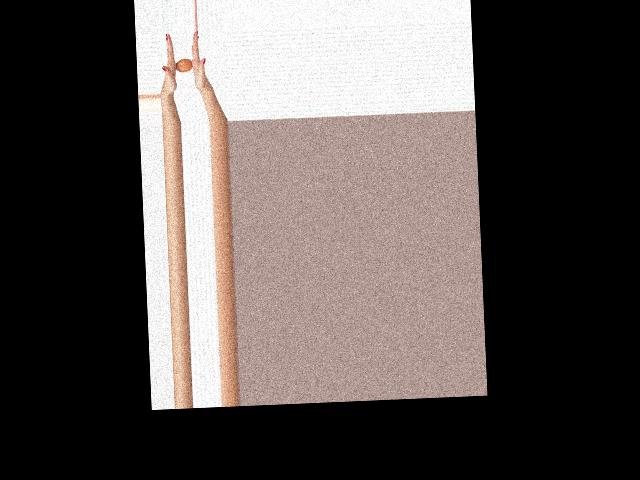egg: (176, 59, 193, 72)
